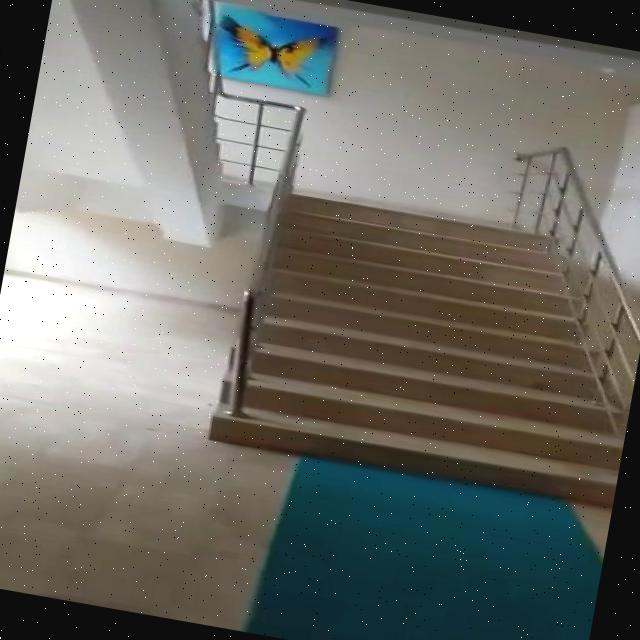stairs: (207, 181, 640, 509)
